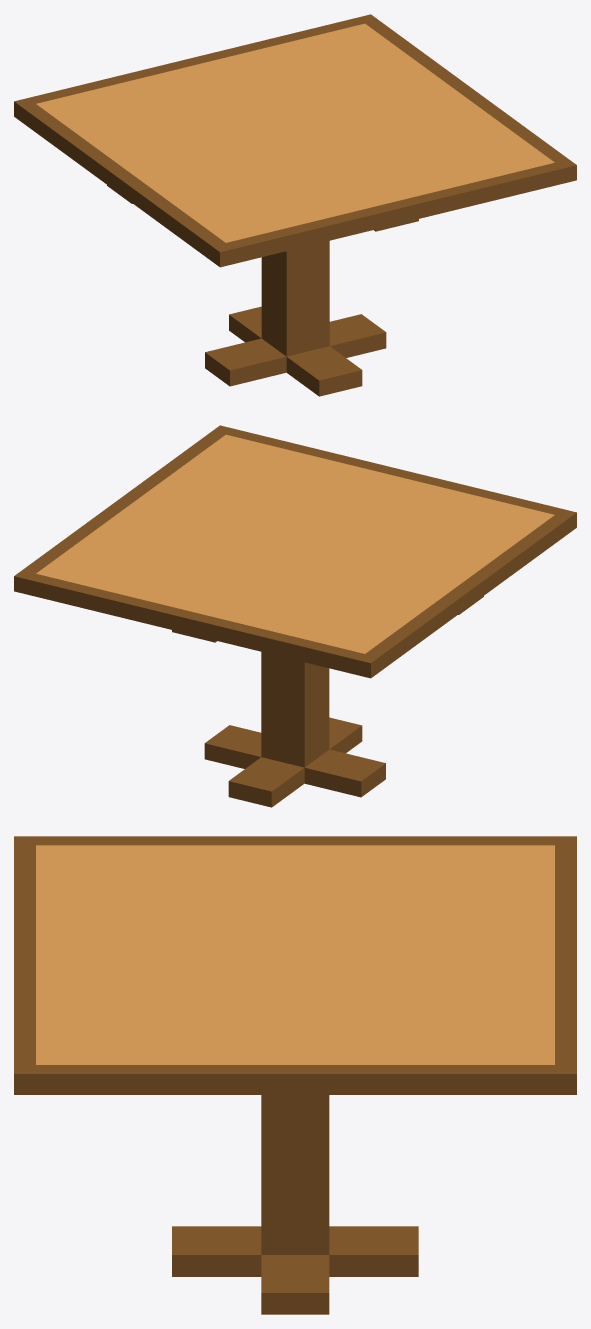
File: Table6.fbx
The picture shows the model from 3 angles, top to bottom: view 1: azimuth 30°, elevation 25°; view 2: azimuth 150°, elevation 25°; view 3: azimuth 270°, elevation 25°; orthographic projection. The views are drawn at different scales.
Parts seen in each view (by area): view 1: Cube.042; view 2: Cube.042; view 3: Cube.042.
Boxes of the visible parts, box(x1,y1,x2,y2) form: Cube.042: box(14, 14, 576, 396); Cube.042: box(14, 425, 576, 807); Cube.042: box(14, 836, 576, 1314).
Size of the model in its own units: 1137 by 685 by 1137.
